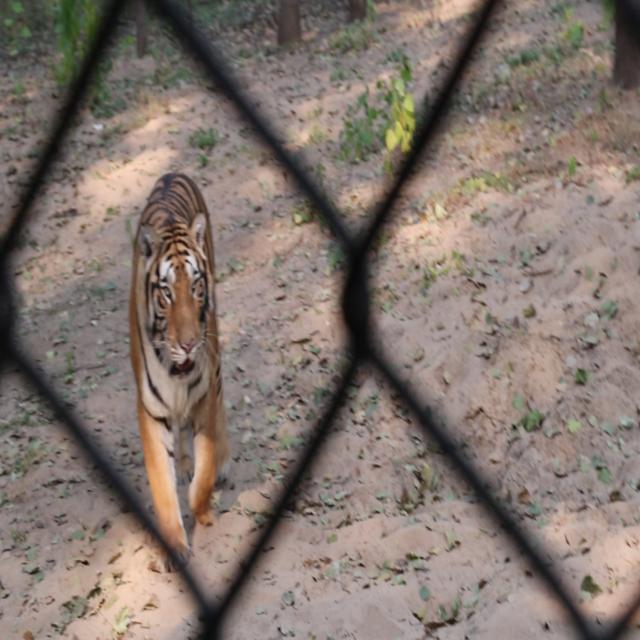Tiger: (124, 160, 246, 576)
